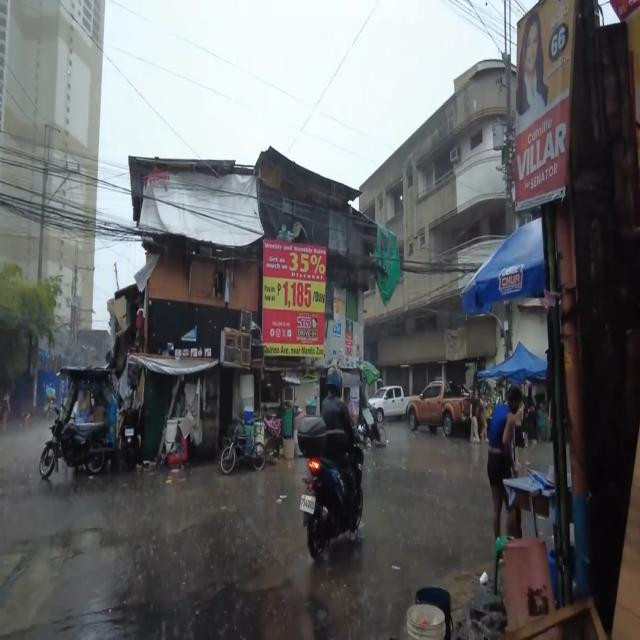full: (324, 363, 344, 398)
